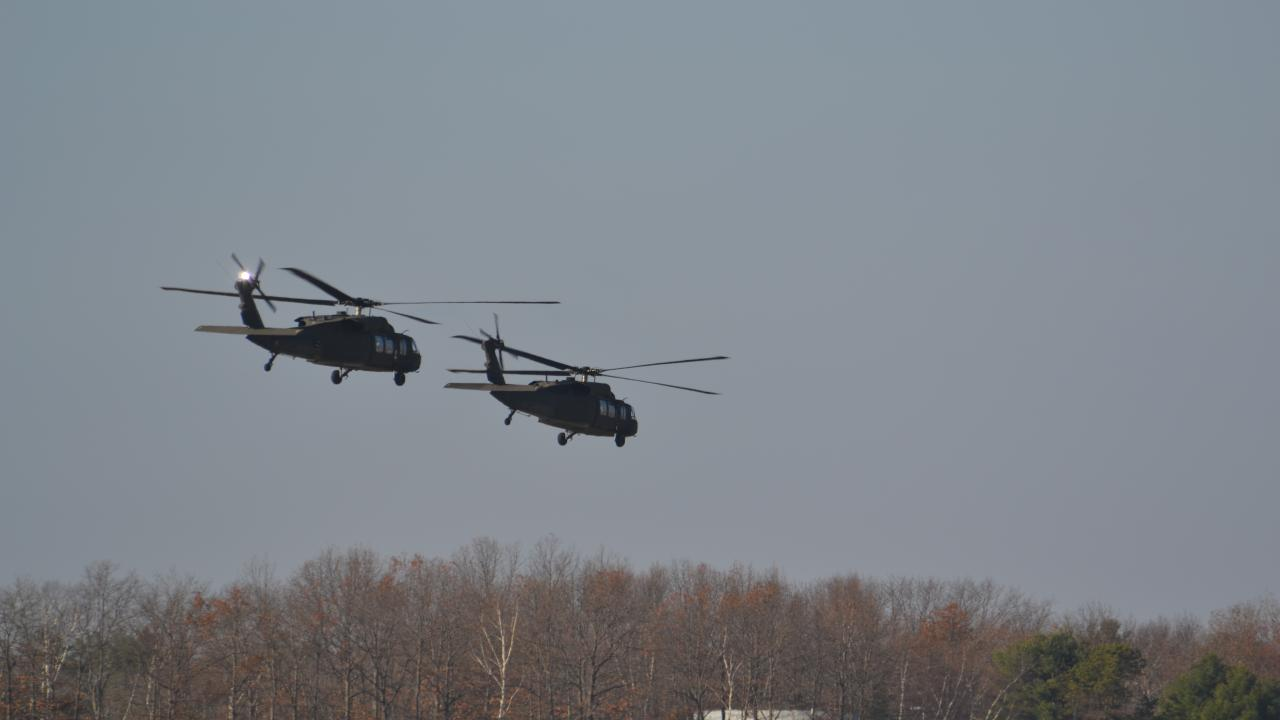Helicopter: (142, 242, 574, 402), (426, 310, 740, 457)
